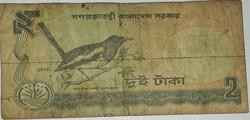2 taka: (2, 2, 250, 112)
